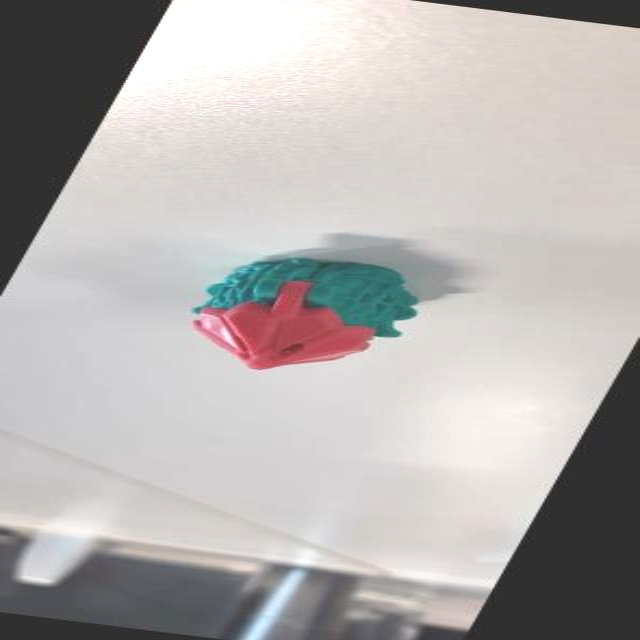House: (153, 243, 457, 393)
